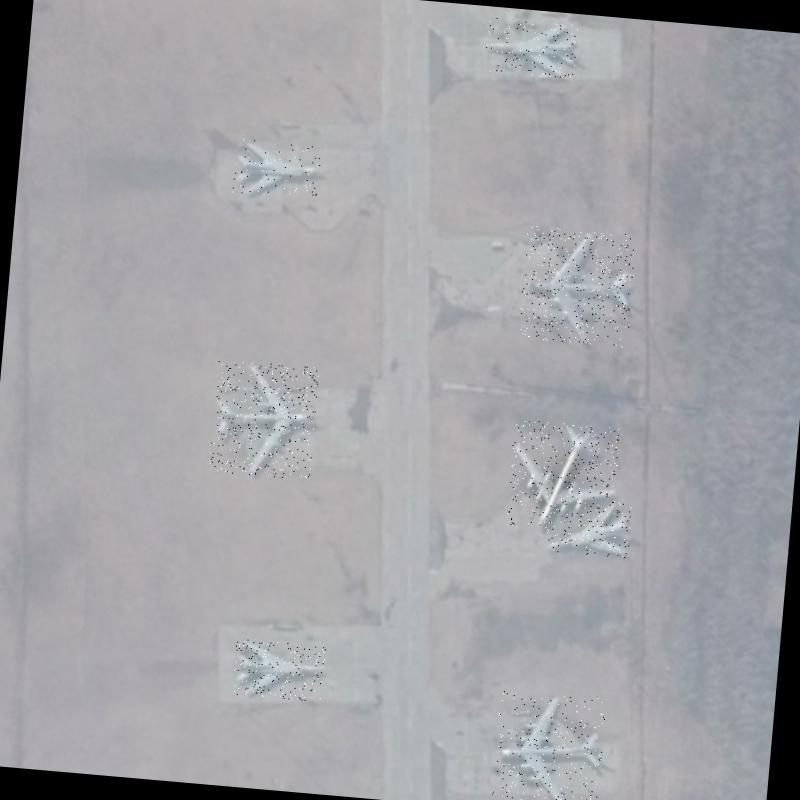A12: (232, 638, 328, 702), (482, 16, 578, 79), (544, 495, 633, 558), (233, 139, 322, 200)
A17: (518, 226, 637, 348), (209, 359, 320, 480), (506, 419, 622, 534), (491, 690, 606, 800)
